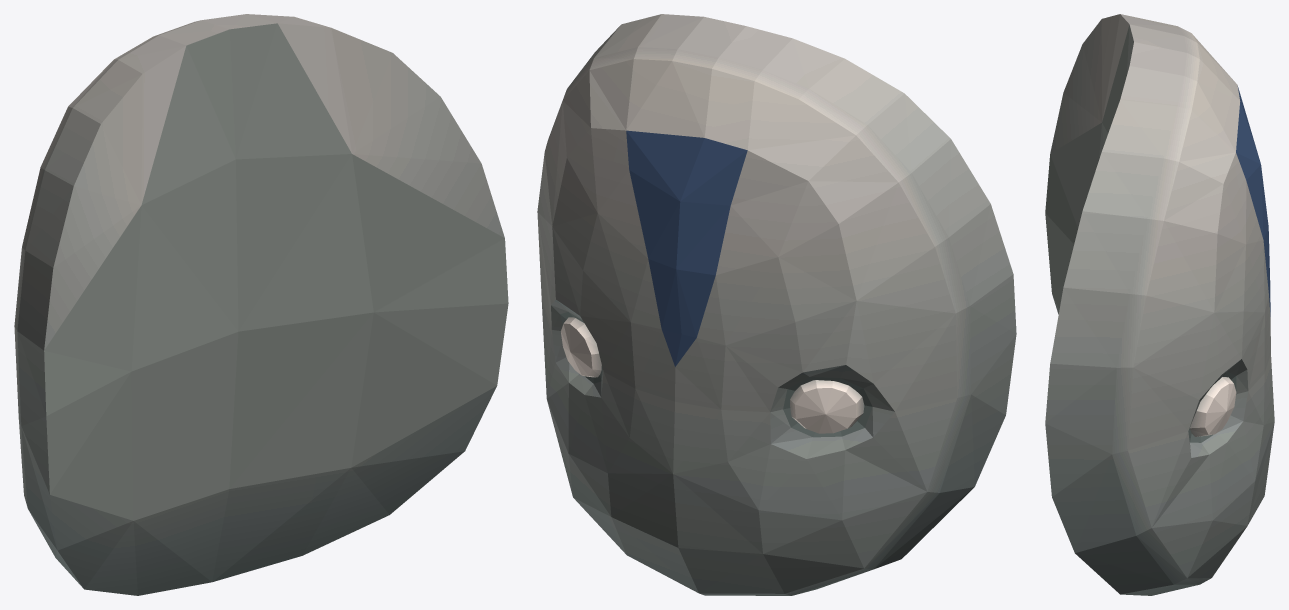
File: CharSkyKid_Mask_AP03F.glb
The picture shows the model from 3 angles, left to right: view 1: azimuth 30°, elevation 25°; view 2: azimuth 150°, elevation 25°; view 3: azimuth 270°, elevation 25°; orthographic projection. The views are drawn at different scales.
Parts seen in each view (by area): view 1: CharSkyKid_Mask_AP03F; view 2: CharSkyKid_Mask_AP03F; view 3: CharSkyKid_Mask_AP03F.
Boxes of the visible parts, <box> form: CharSkyKid_Mask_AP03F: <box>14,14,508,595</box>; CharSkyKid_Mask_AP03F: <box>537,14,1016,595</box>; CharSkyKid_Mask_AP03F: <box>1045,14,1274,595</box>.
Size of the model in its own units: 2.11 by 2.46 by 0.97.
1 material, 1 textured.
